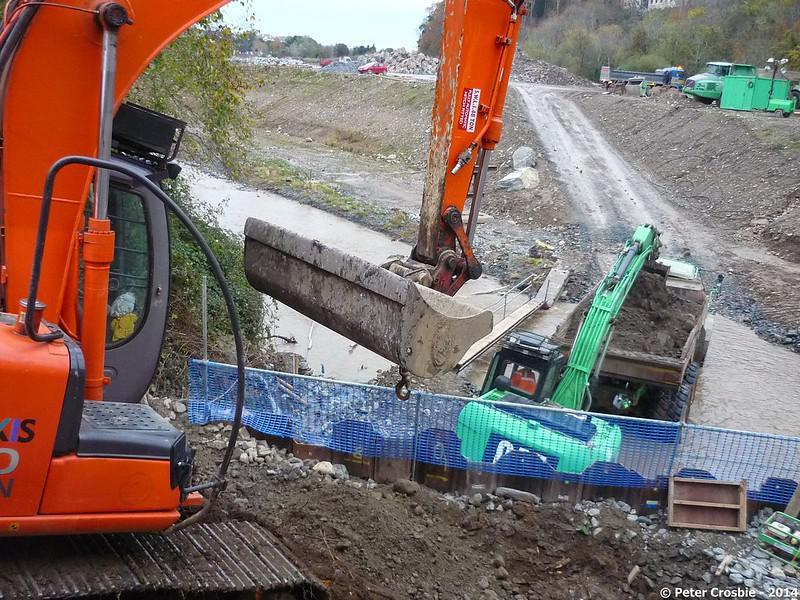EXCAVATORS: (0, 0, 498, 599), (458, 223, 671, 510)
